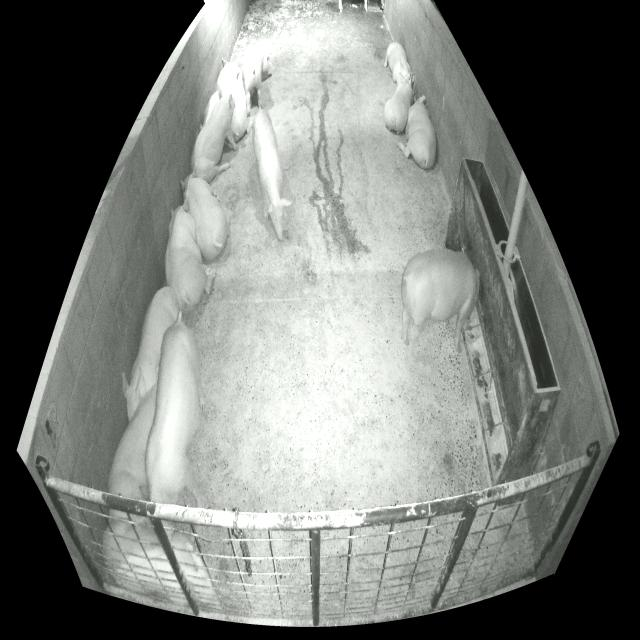pig: (146, 311, 210, 508), (103, 519, 215, 609), (402, 250, 480, 352), (122, 287, 178, 421), (108, 383, 156, 499), (254, 109, 292, 239), (190, 85, 238, 183), (165, 199, 206, 313), (181, 168, 228, 259), (397, 95, 436, 169), (216, 59, 247, 141), (242, 39, 270, 116), (385, 75, 415, 134), (384, 42, 414, 86), (200, 92, 220, 128)
